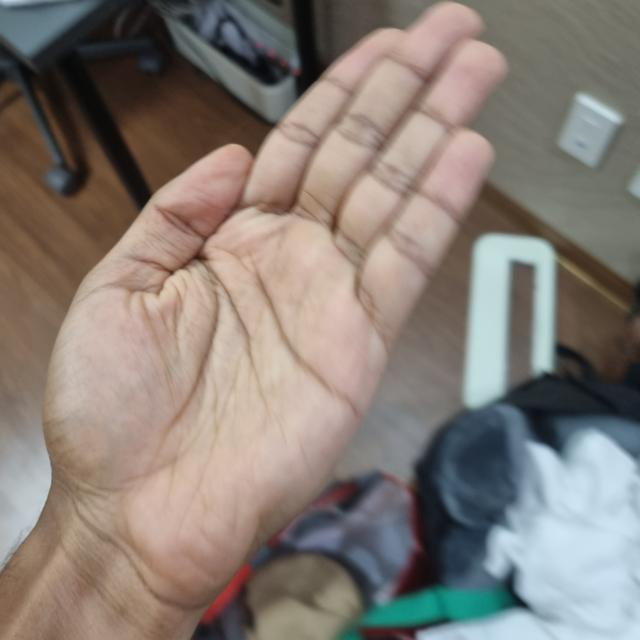Paper: (56, 3, 513, 585)
